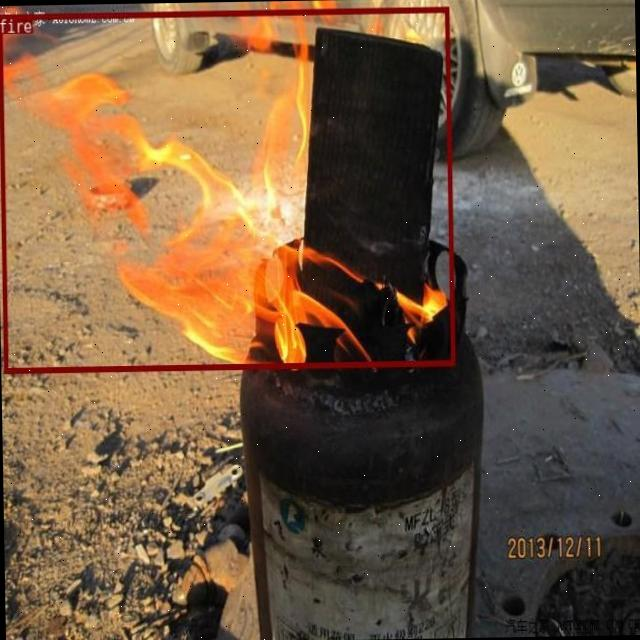fire: (0, 5, 453, 371)
